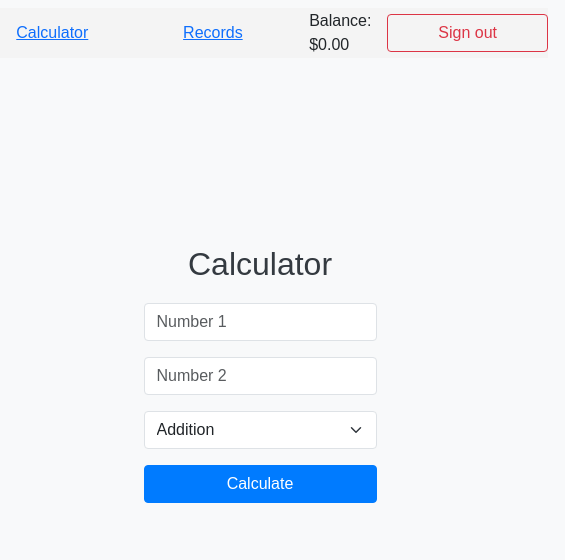
Test: should allow the user to perform an operation
The width and height of the screenshot is (565, 560).
Type "10" into the number field with placeholder "Number 1" at point(260, 322), box [144,303,376,341]
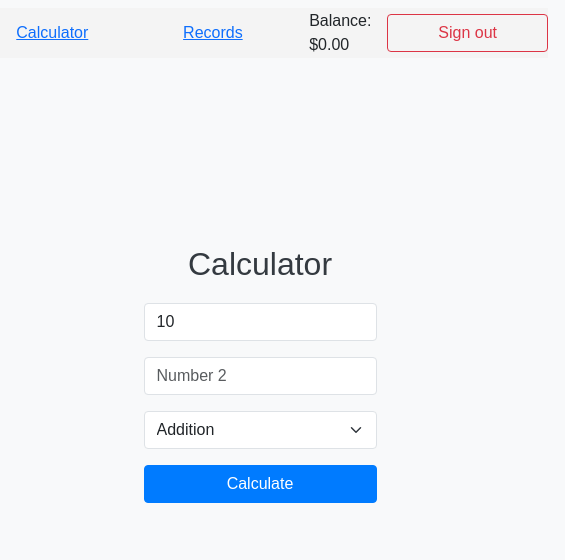
Type "20" into the number field with placeholder "Number 2" at point(260, 376), box [144,357,376,395]
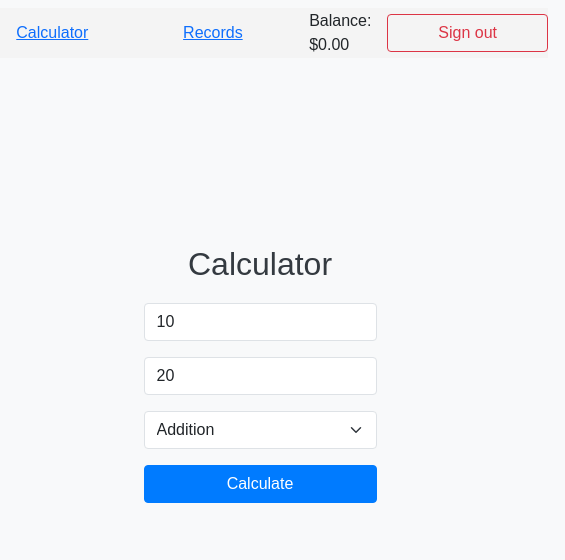
Select "Addition" in the dropdown at point(260, 430), box [144,411,376,449]
Click the button "Calculate" at point(260, 484), box [144,465,376,503]
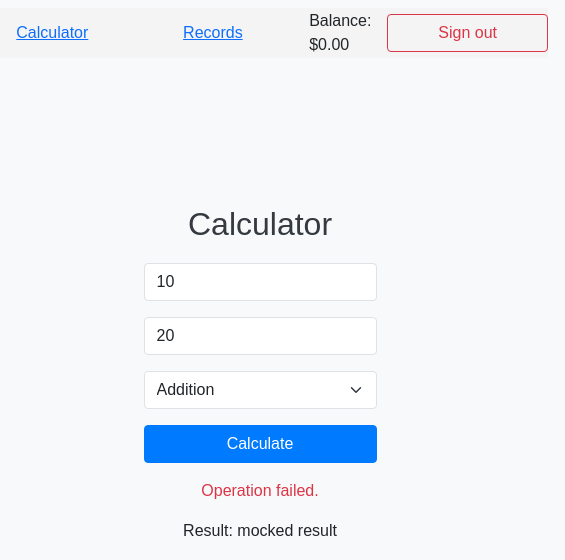
Expected: the text "Result: mocked result" is shown, [183,519,337,543]
